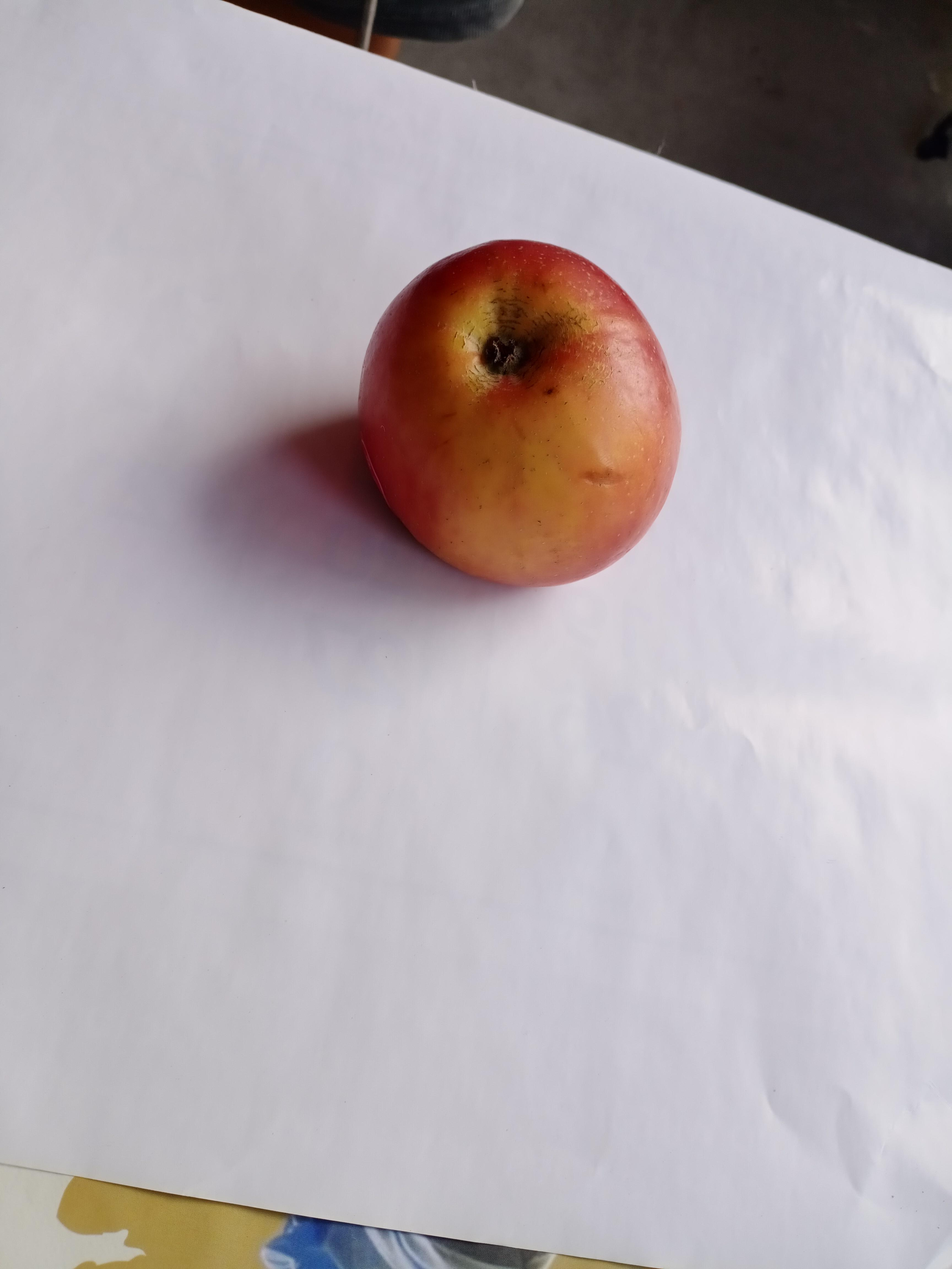Apple Ripe: (353, 223, 689, 606)
